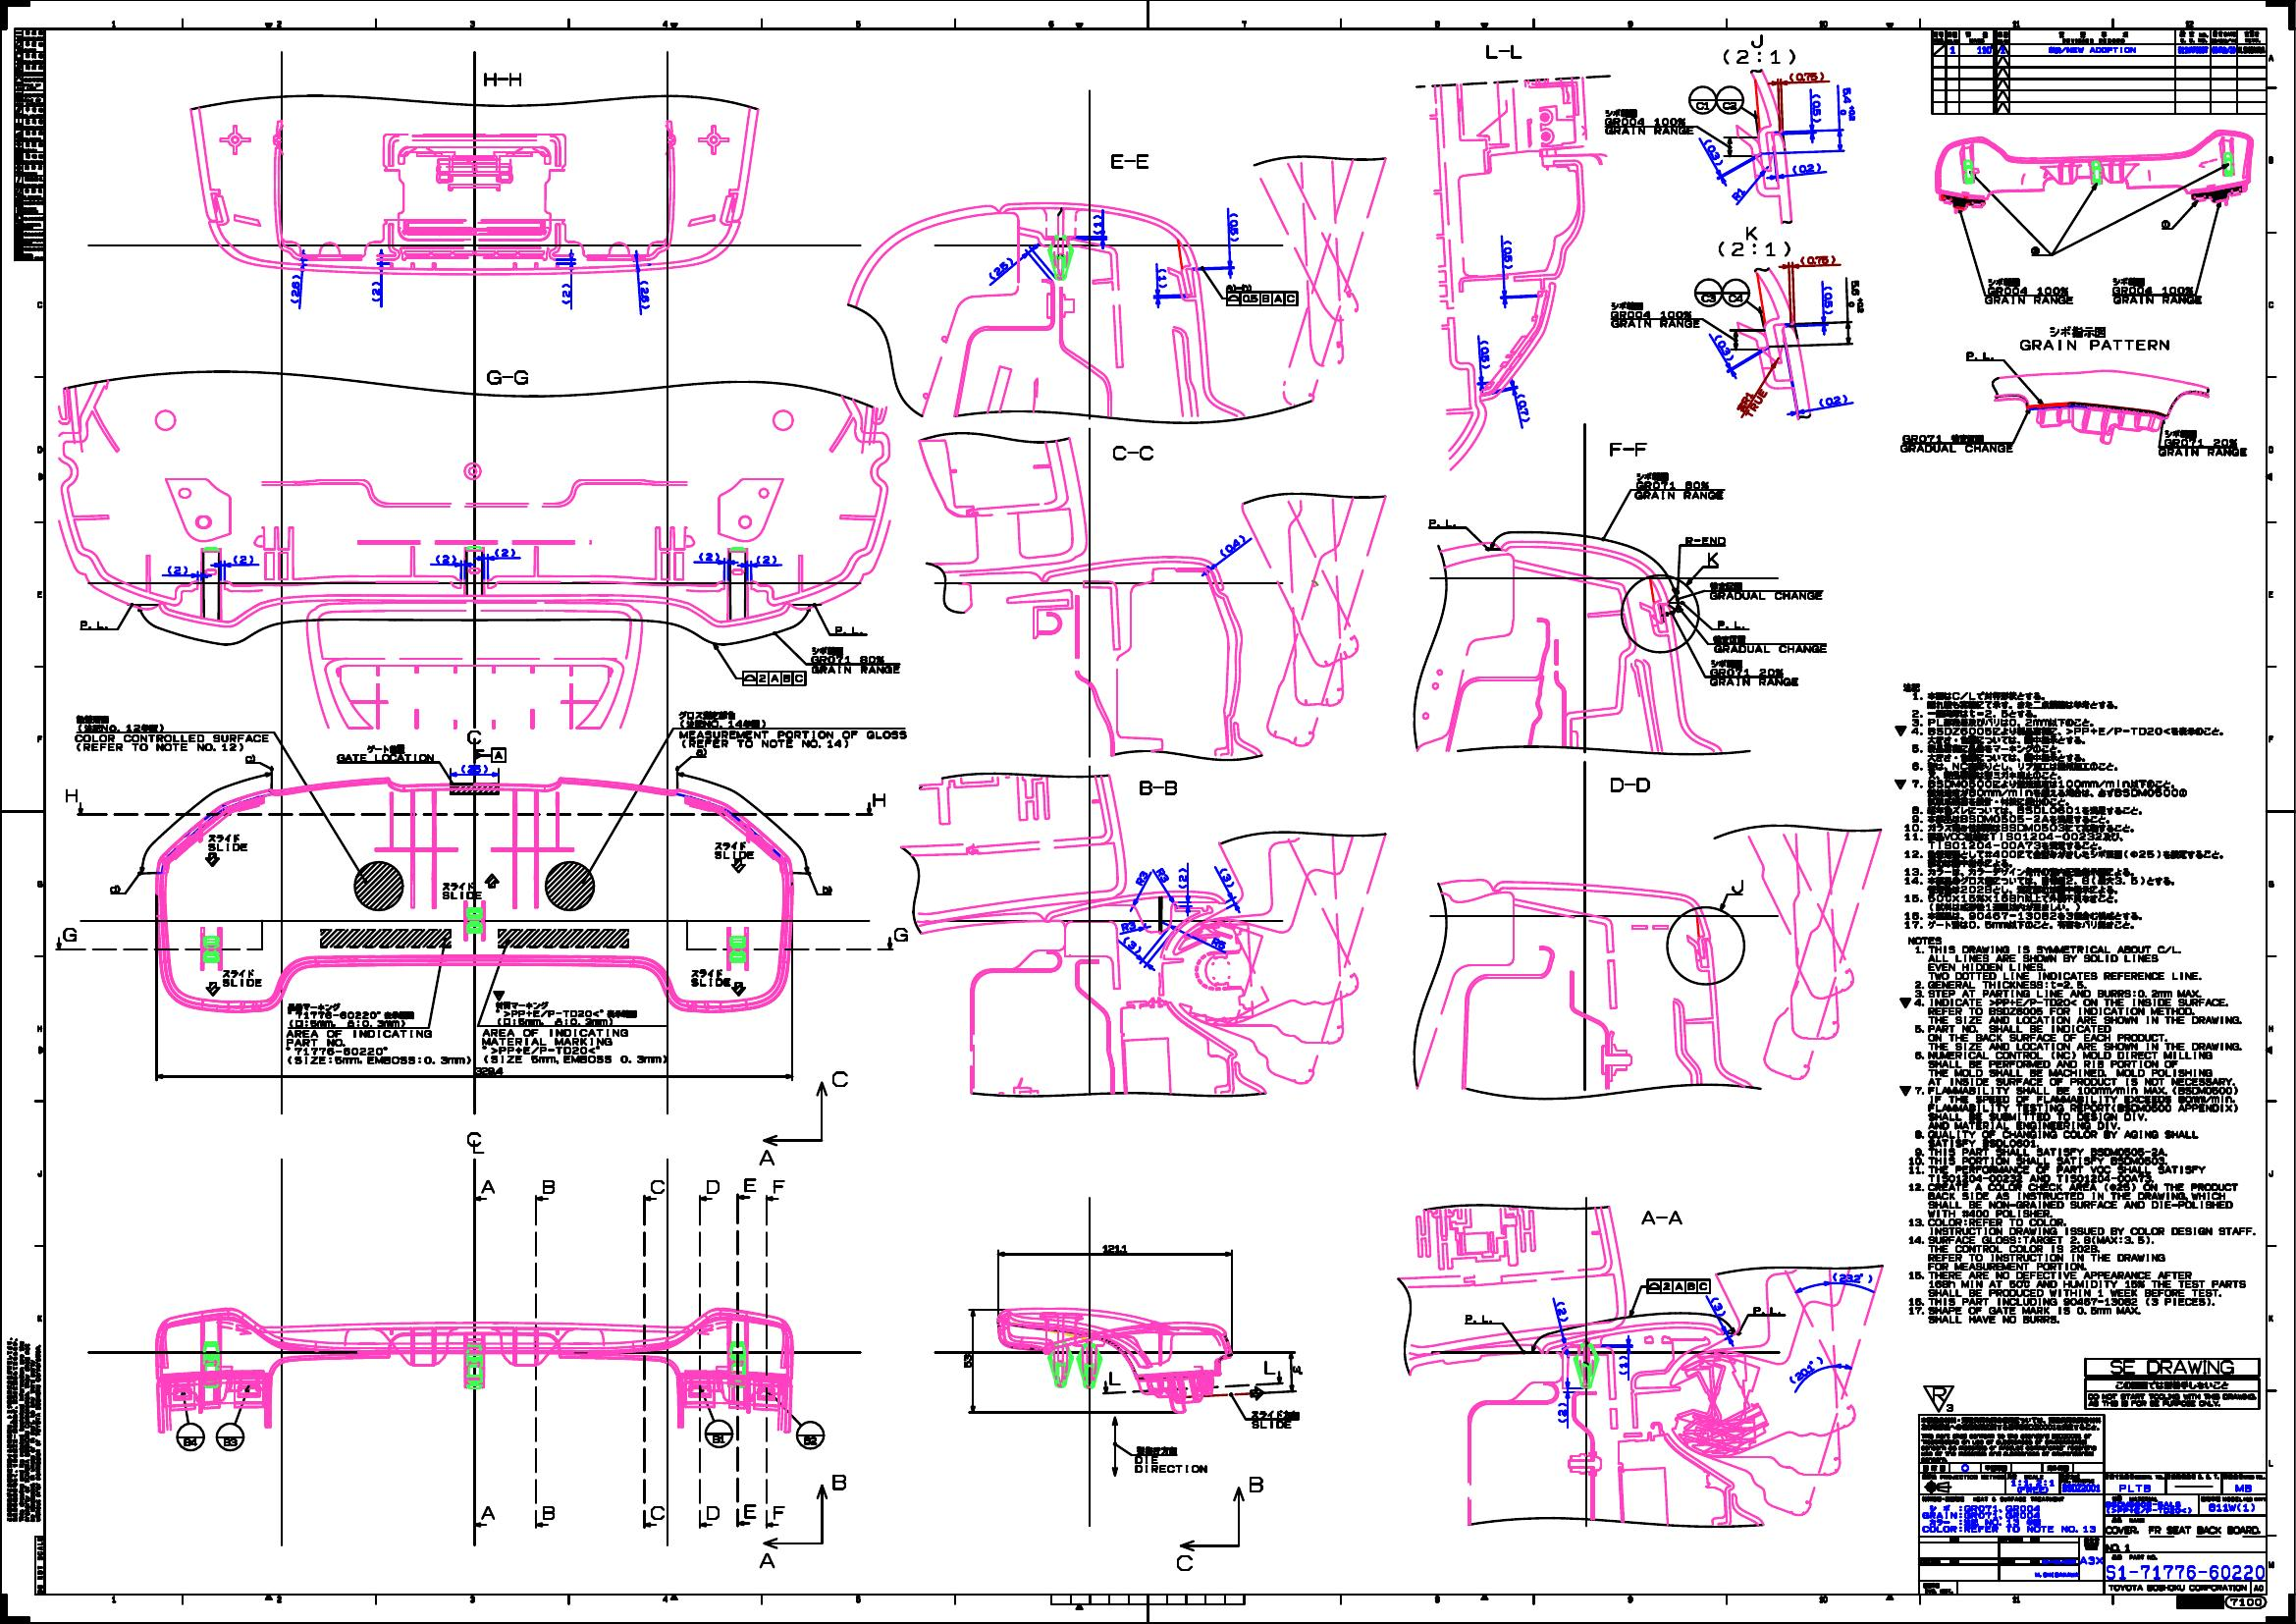anntotation_text: (1892, 682, 2257, 1325), (480, 1000, 668, 1063), (285, 1002, 473, 1063), (678, 708, 910, 756), (72, 714, 271, 752), (5, 1336, 42, 1522), (2018, 325, 2170, 352), (2110, 274, 2206, 308), (808, 645, 901, 675), (1982, 276, 2075, 306), (1634, 471, 1725, 501), (1602, 107, 1693, 137), (1611, 301, 1700, 330), (1899, 432, 2015, 455), (2155, 429, 2249, 457), (1709, 659, 1801, 687), (1722, 33, 1797, 67), (1708, 580, 1825, 601), (1131, 1445, 1209, 1476), (1711, 633, 1827, 654), (1715, 225, 1790, 257), (337, 742, 436, 763), (1693, 274, 1750, 308), (1224, 283, 1300, 308), (1686, 86, 1743, 114), (1646, 1276, 1713, 1294), (1920, 1381, 1957, 1413), (1251, 1410, 1300, 1432), (1107, 441, 1156, 462), (741, 670, 806, 685), (1607, 775, 1651, 798), (1639, 1206, 1688, 1225), (487, 366, 529, 387), (1483, 42, 1523, 63), (207, 831, 248, 852), (711, 840, 755, 859), (1732, 390, 1769, 413), (1135, 779, 1182, 796), (690, 967, 731, 986), (443, 881, 481, 900), (481, 70, 523, 88), (1108, 153, 1149, 170), (221, 968, 262, 986), (2224, 1594, 2268, 1610), (1609, 439, 1646, 457), (1681, 534, 1727, 547), (1962, 348, 1996, 362), (829, 1069, 852, 1088), (77, 617, 112, 629), (478, 1503, 499, 1522), (757, 1146, 775, 1167), (1750, 1304, 1783, 1315), (1715, 619, 1748, 629), (703, 1176, 720, 1195), (648, 1178, 668, 1195), (539, 1176, 557, 1195), (538, 1503, 557, 1520), (740, 1501, 757, 1520), (1247, 1475, 1265, 1494), (831, 1471, 845, 1494), (1426, 517, 1456, 527), (63, 786, 81, 803), (464, 1128, 481, 1146), (1175, 1554, 1193, 1571), (1709, 1297, 1725, 1316), (741, 1176, 757, 1195), (648, 1504, 668, 1520), (704, 1503, 720, 1522), (1463, 1311, 1491, 1322), (1126, 933, 1138, 956), (833, 624, 864, 633), (892, 926, 910, 942), (480, 1178, 497, 1193), (1107, 1369, 1123, 1387), (1706, 550, 1722, 568), (1261, 1359, 1275, 1378), (1556, 1301, 1569, 1322), (490, 747, 506, 763), (61, 926, 77, 942), (871, 791, 887, 807), (1177, 866, 1188, 889), (1221, 868, 1233, 888), (769, 1178, 783, 1193), (769, 1503, 783, 1519), (761, 1552, 775, 1568), (1212, 935, 1224, 953), (1618, 1355, 1628, 1374), (1556, 1403, 1567, 1422), (221, 1436, 239, 1446), (1137, 868, 1145, 888), (1158, 866, 1168, 882), (819, 884, 833, 895), (803, 1434, 817, 1445), (183, 1436, 197, 1446), (2159, 218, 2173, 228), (1121, 923, 1137, 932), (244, 752, 255, 765), (1291, 1366, 1303, 1376), (107, 884, 121, 893), (711, 1434, 724, 1443), (2031, 246, 2040, 255)
dimension_text: (1848, 278, 1866, 316), (1839, 86, 1857, 123), (1785, 1366, 1827, 1378), (1832, 1271, 1874, 1283), (1788, 70, 1825, 81), (1816, 395, 1852, 406), (1228, 211, 1240, 241), (994, 253, 1007, 283), (1217, 540, 1247, 552), (1716, 332, 1729, 362), (1708, 137, 1718, 167), (1811, 93, 1822, 123), (639, 279, 650, 309), (1479, 339, 1490, 369), (1792, 163, 1822, 174), (460, 763, 488, 773), (1516, 395, 1527, 424), (1823, 286, 1834, 315), (697, 550, 720, 562), (290, 272, 299, 304), (1504, 239, 1513, 269), (1091, 214, 1103, 236), (232, 554, 255, 564), (1101, 1244, 1128, 1253), (560, 283, 571, 304), (167, 564, 188, 575), (436, 554, 457, 564), (494, 547, 515, 557), (755, 554, 776, 564), (371, 281, 379, 302), (1158, 269, 1166, 288), (1729, 190, 1748, 199), (963, 1353, 971, 1367)
object: (56, 367, 896, 733), (1393, 1195, 1887, 1526), (898, 772, 1388, 1100), (917, 431, 1388, 763), (153, 775, 794, 1014), (845, 151, 1390, 424), (1412, 823, 1883, 1102), (186, 93, 762, 276), (153, 1304, 796, 1436), (1411, 529, 1751, 758), (1426, 74, 1607, 473), (1932, 128, 2254, 214), (996, 1306, 1233, 1413), (1990, 367, 2210, 445), (1734, 265, 1813, 420), (1736, 69, 1792, 225)
title_block: (1918, 1413, 2266, 1594), (1931, 28, 2268, 114), (2083, 1357, 2259, 1410), (12, 26, 46, 262)
